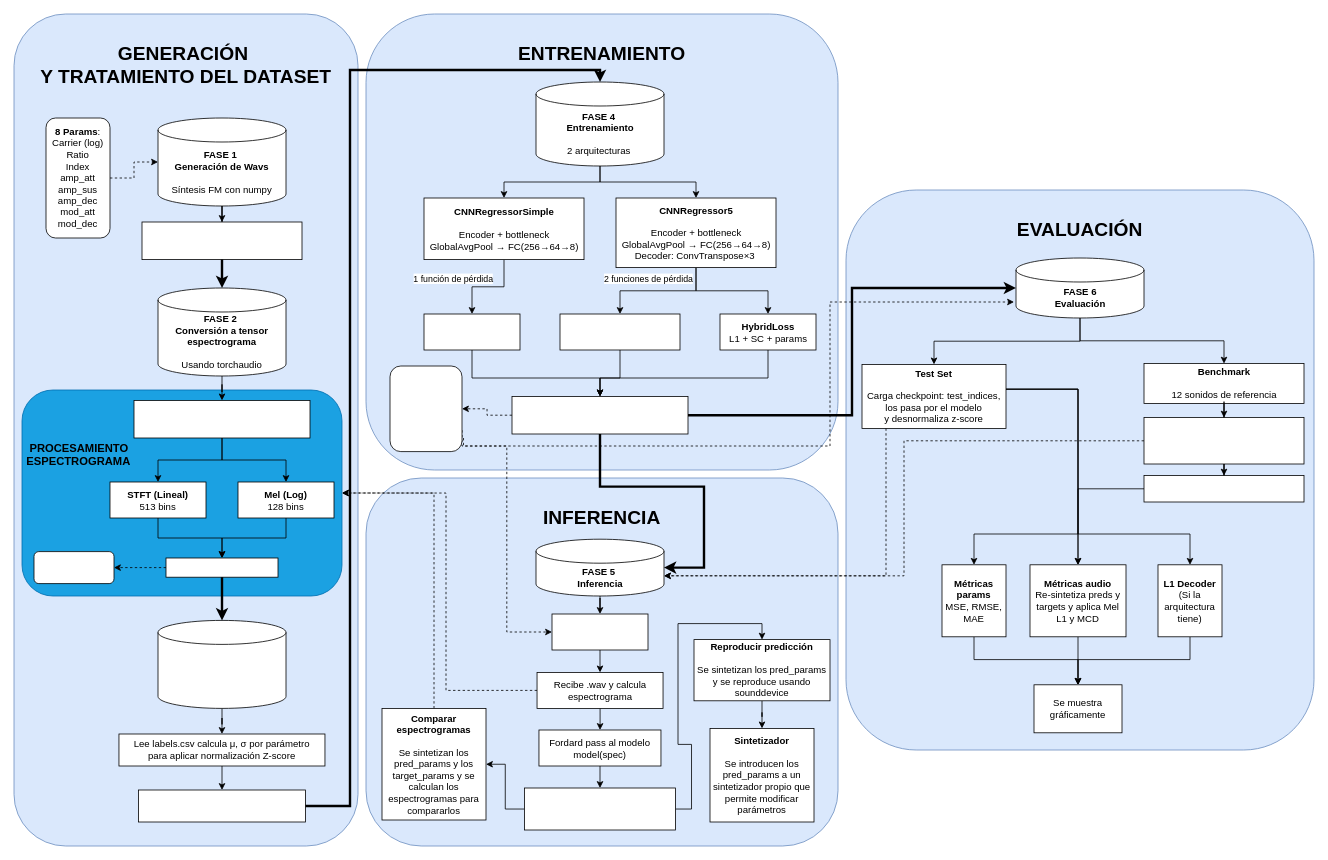
Image size: 1328x860. Some labels were removed from this diagram. Here are the shapes that lost their labels. From the top down, the centre of each, then its label:
the point at 221,240: Síntesis con muestreo aleatorio acotado → .wav + labels.csv
the point at 471,331: SmoothL1 params
the point at 619,331: MultiScaleSpectralLoss 6 escalas + params
the point at 221,419: Fade in/out + peak normalization + amplitud en dB
the point at 425,408: checkpoint.pth state_dict param_means param_stds spec_mode arch test_indices
the point at 599,415: Backprop + Adam Guarda mejor época (val_loss)
the point at 1223,440: Sintetiza, transforma a espectrograma y los pasa por el modelo
the point at 1223,488: Re-sintetiza los pred_params
the point at 73,567: Se genera un spec_mode.txt
the point at 221,567: Guardado como .pt
the point at 599,631: Instancia modelo y carga checkpoint
the point at 221,664: FASE 3 Dataset Pytorch Clase Dataset de pytorch
the point at 222,805: Split: Train 70% / Val 15% / Test 15% (seed fija)
the point at 600,808: Se obtienen los parametros predichos y se desnormalizan usando el checkpoint
